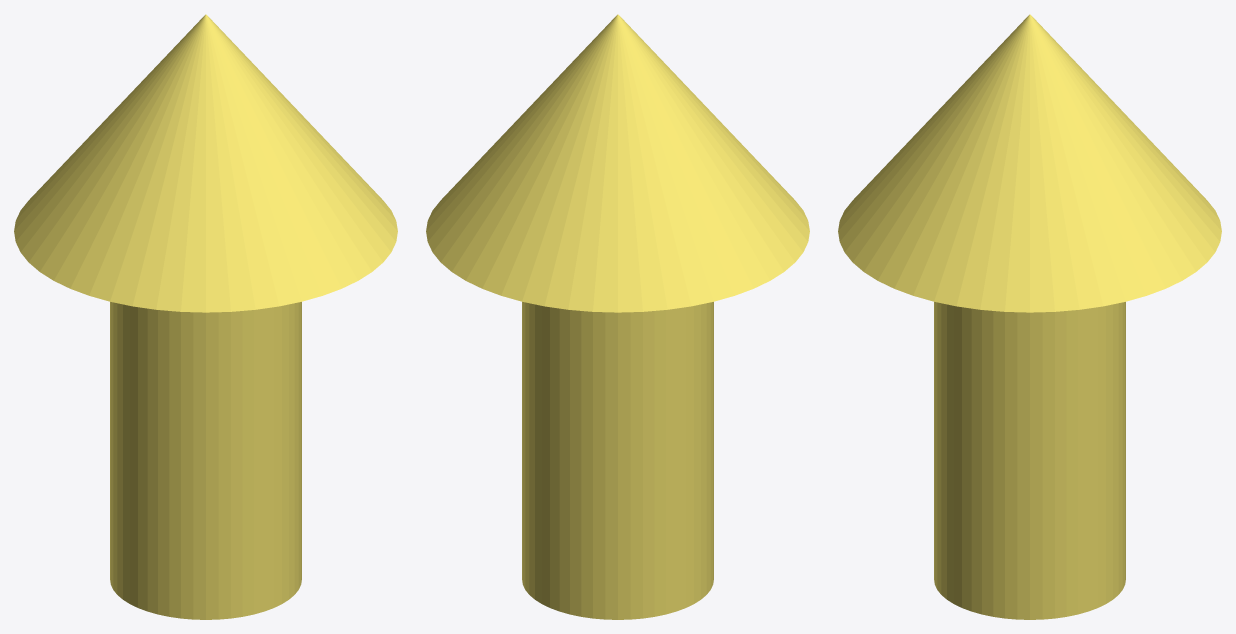
Rendered from arrow.glb.
3 views of the same model, side by side, from view 1: azimuth 30°, elevation 25°; view 2: azimuth 150°, elevation 25°; view 3: azimuth 270°, elevation 25° (orthographic).
Size of the model in its own units: 16 by 26 by 16.
